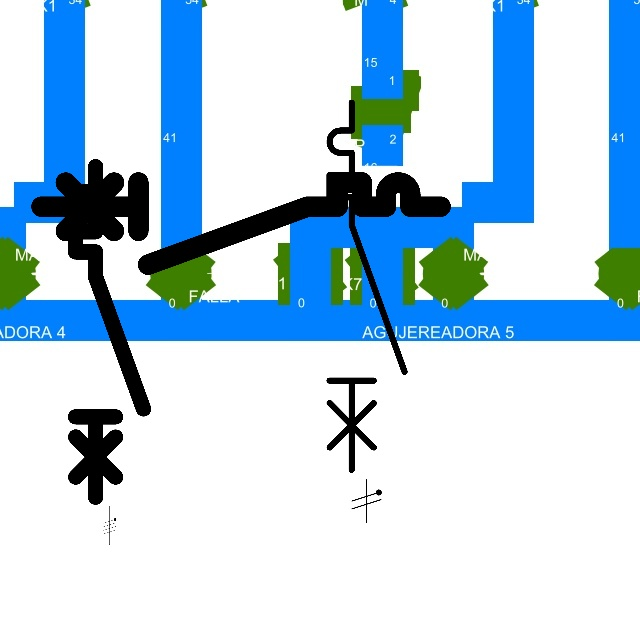interruptor_termomagnetico: (31, 172, 451, 274), (320, 93, 414, 479), (67, 158, 152, 505)
